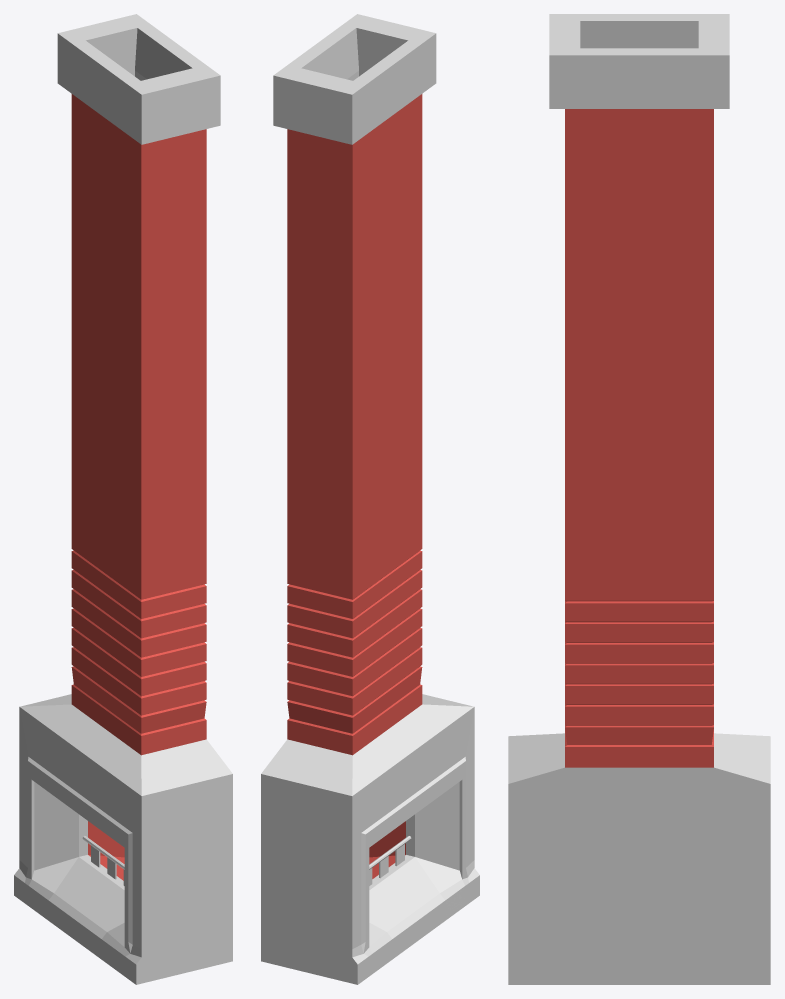
The model's file is камин.fbx.
The picture shows the model from 3 angles, left to right: view 1: azimuth 30°, elevation 25°; view 2: azimuth 150°, elevation 25°; view 3: azimuth 270°, elevation 25°; orthographic projection. The views are drawn at different scales.
Visible parts, largest first — view 1: камин; view 2: камин; view 3: камин.
Part boxes in pixels (x1,y1,x2,y2): камин: [14, 14, 232, 984]; камин: [261, 14, 479, 984]; камин: [508, 14, 770, 984].
Bounding box in the file's own units: 116 × 928 × 236.
